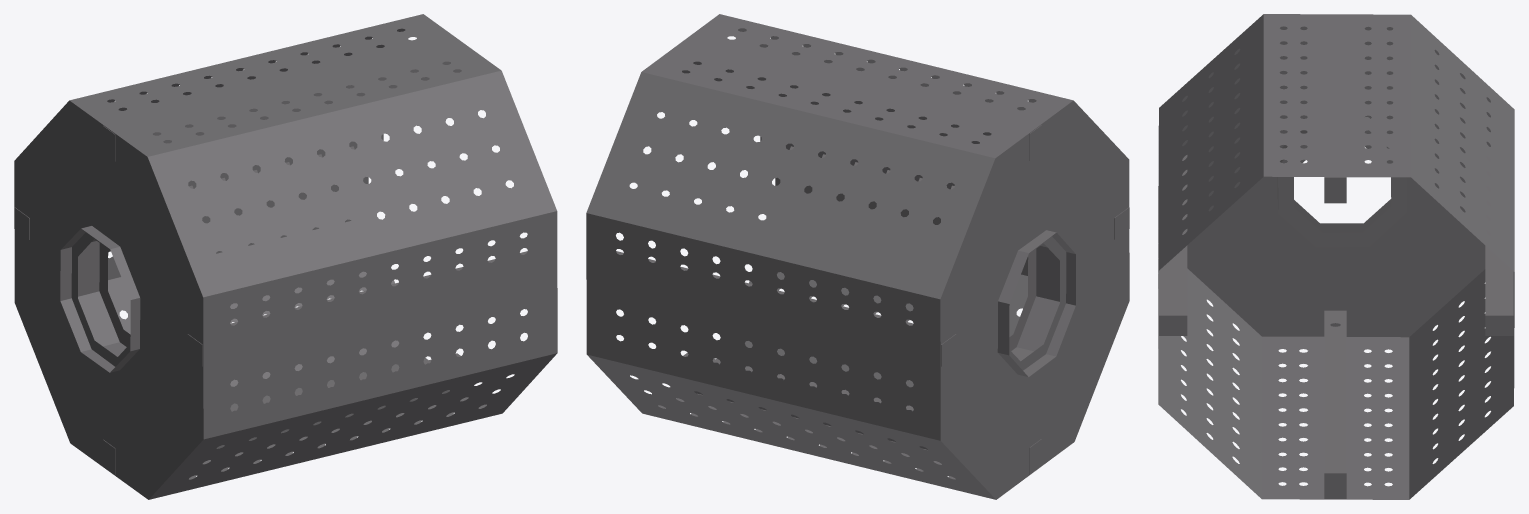
The model's file is MakineİçiDelikli.fbx.
The picture shows the model from 3 angles, left to right: view 1: azimuth 30°, elevation 25°; view 2: azimuth 150°, elevation 25°; view 3: azimuth 270°, elevation 25°; orthographic projection. The views are drawn at different scales.
Visible parts, largest first — view 1: Cylinder.013; view 2: Cylinder.013; view 3: Cylinder.013.
Part boxes in pixels (<box>): Cylinder.013: <box>14,14,557,499</box>; Cylinder.013: <box>586,14,1129,499</box>; Cylinder.013: <box>1158,14,1514,499</box>.
Size of the model in its own units: 134 by 120 by 120.
1 material, 1 textured.
